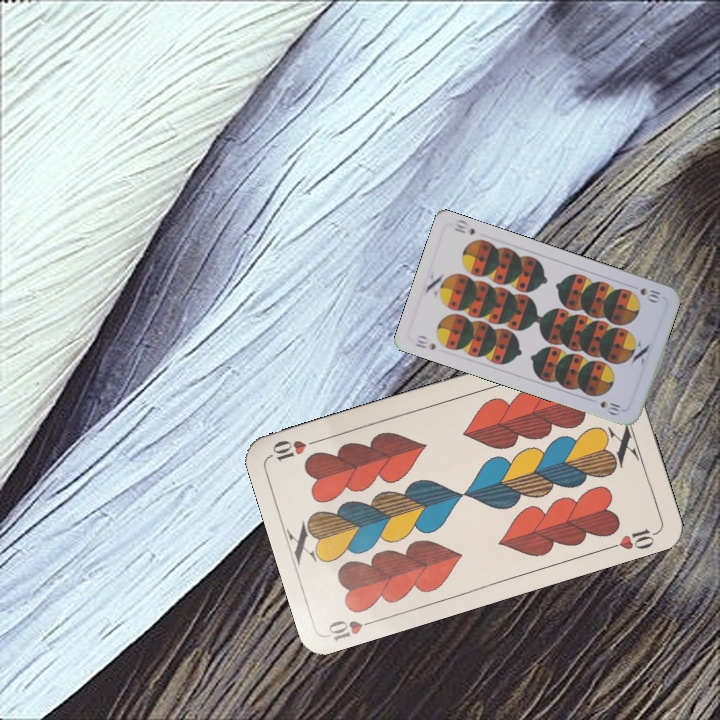H10: (323, 614, 382, 643)
S10: (411, 331, 439, 353), (636, 284, 664, 305)
